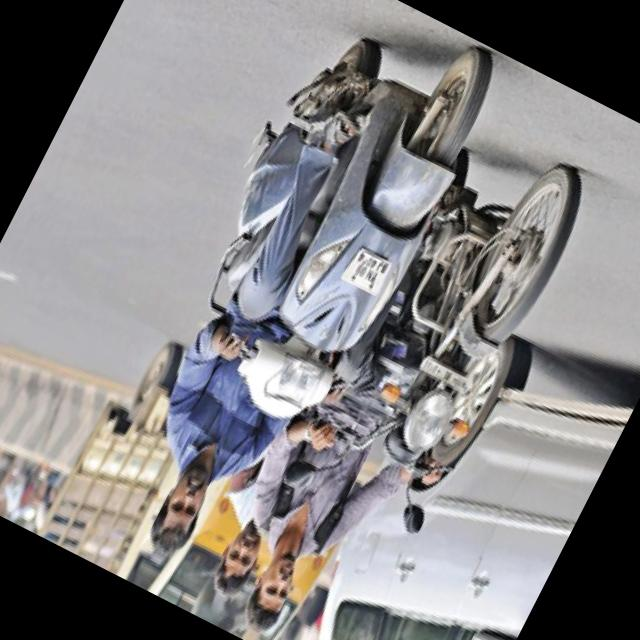bareface: (133, 454, 225, 568), (226, 537, 312, 640), (200, 522, 268, 600)
